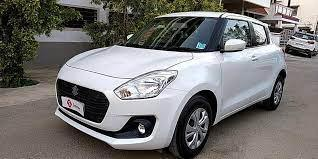Hatchback: (55, 8, 287, 158), (282, 28, 318, 57)
